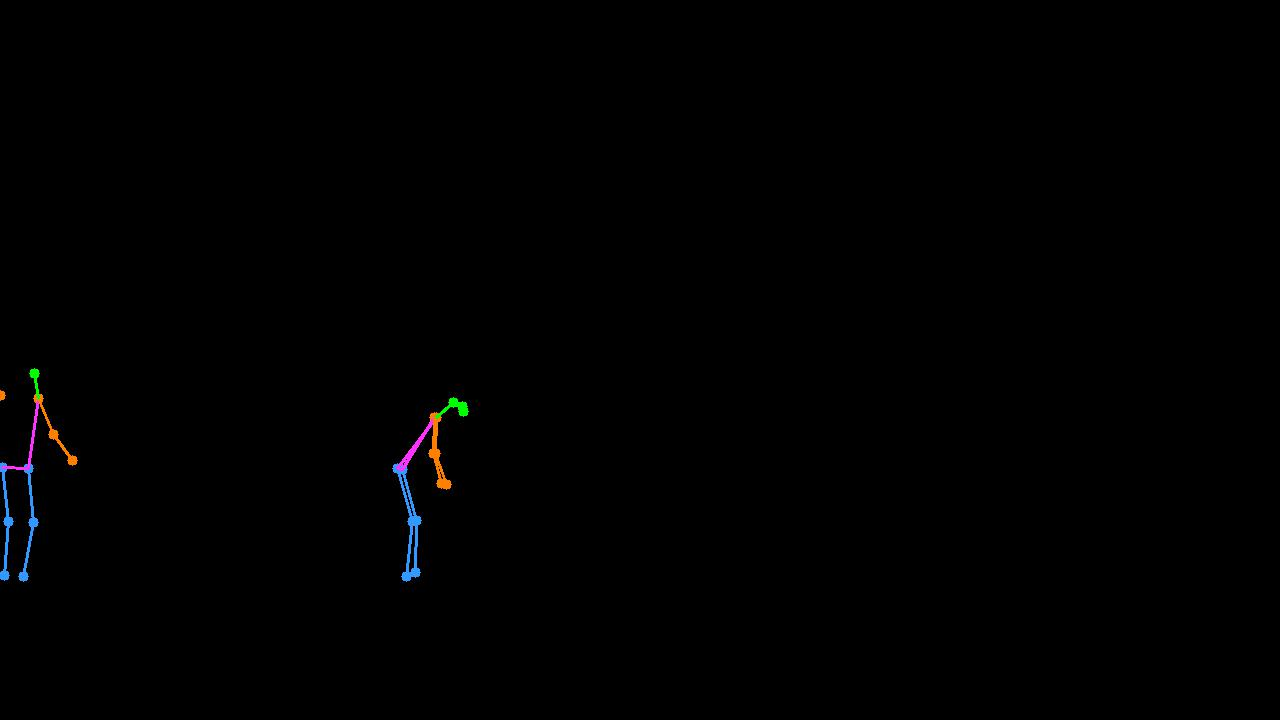normal: (372, 376, 483, 594), (1, 347, 83, 592)
